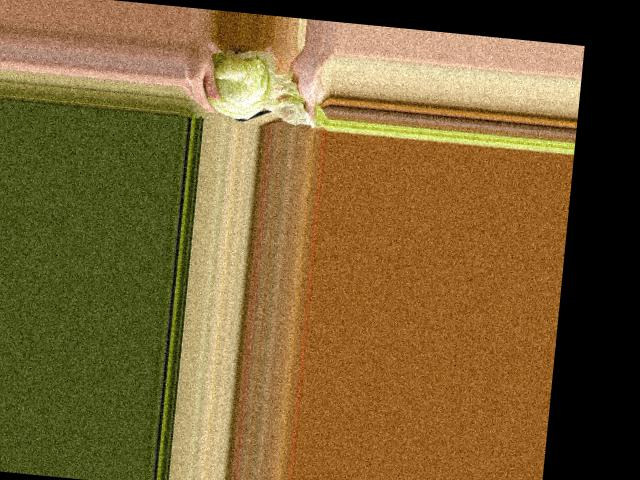lettuce: (200, 41, 293, 126)
